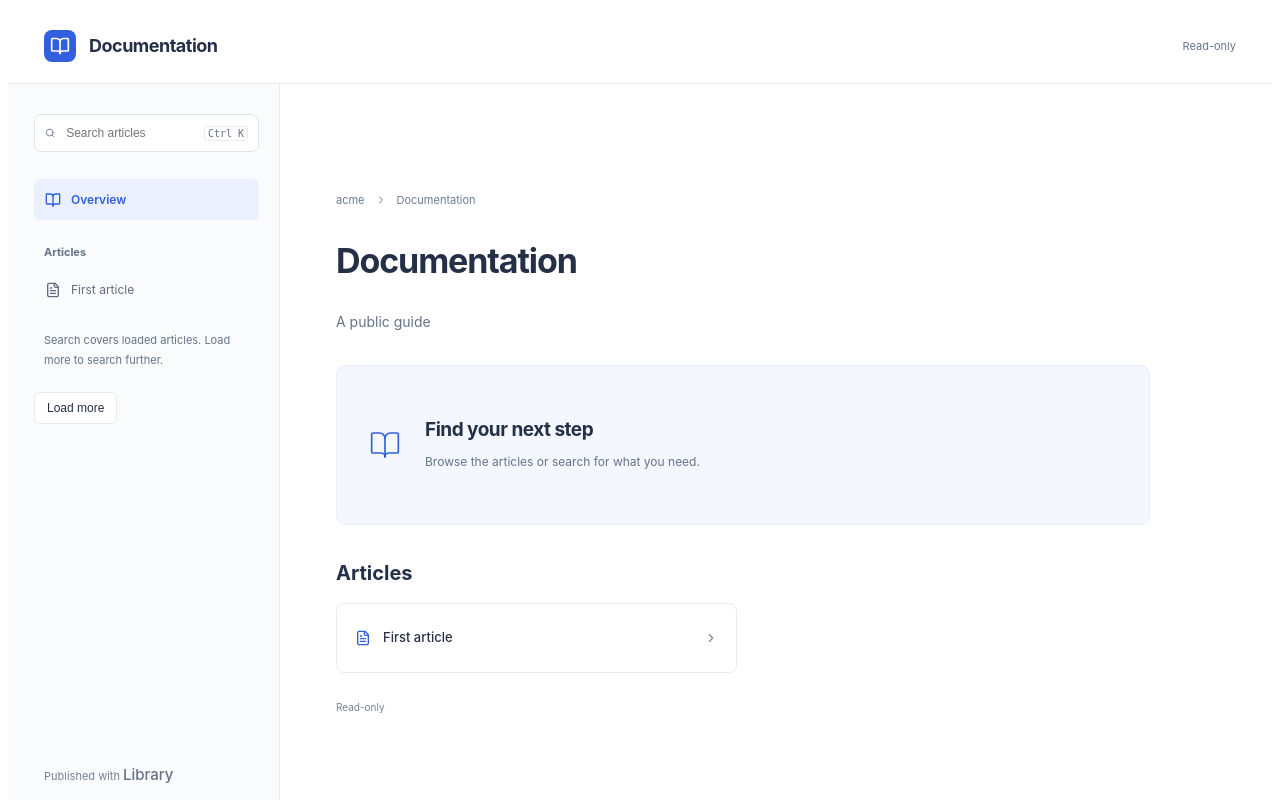
Scenario: public docs reader › reads the index anonymously, filters articles and preserves paging
Step 1. Click the button "Load more" → (76, 408), box [34,392,117,424]
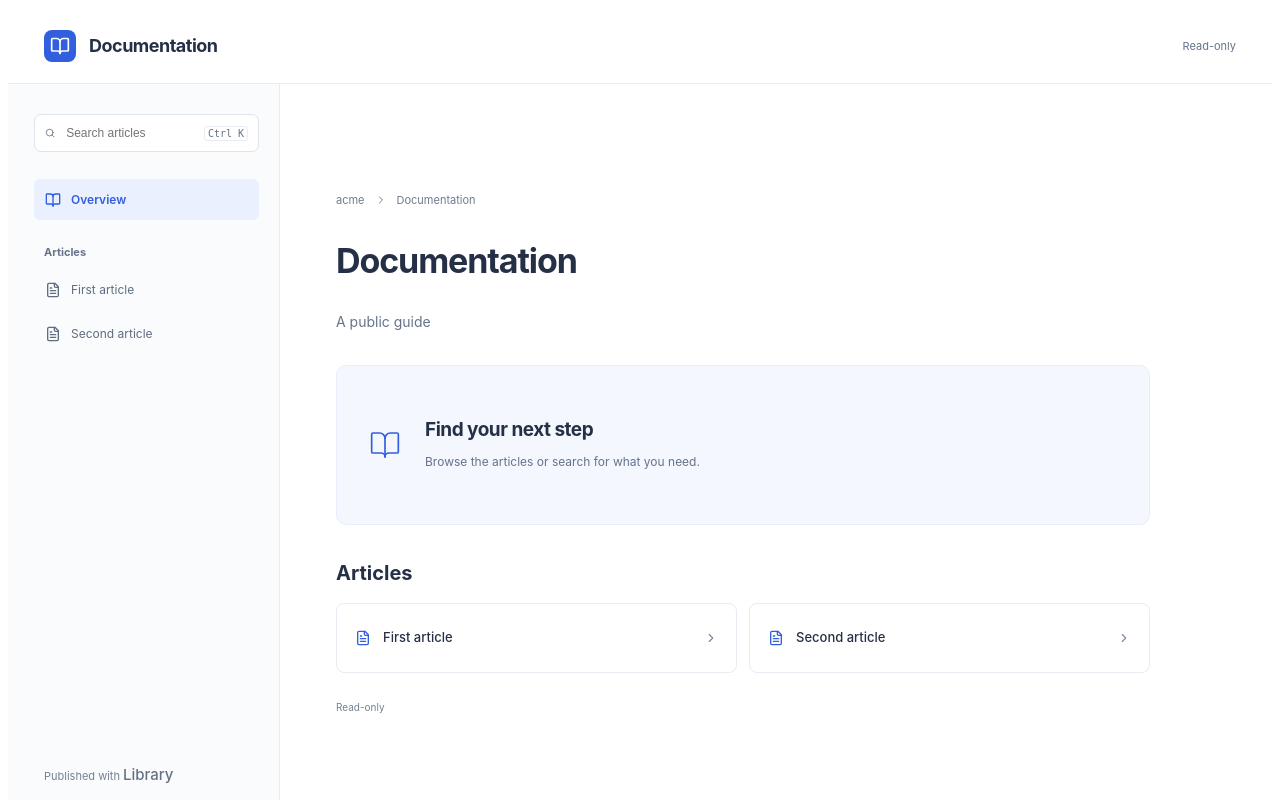
Check: the text "Second article" is shown 2 times, box [71,324,153,344]; [796,626,886,650]
Step 2. Type "Second" into the field → (130, 133), box [64,125,195,141]
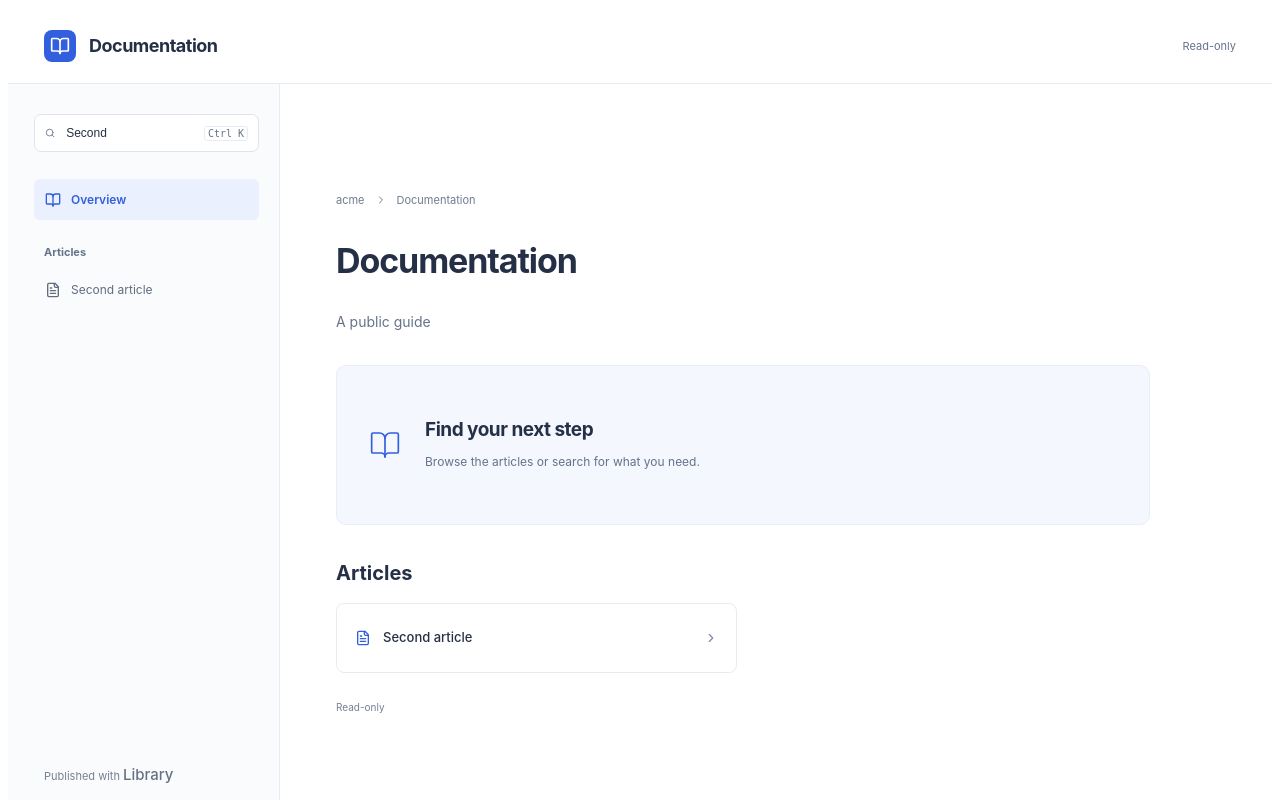
Check: the link "First article" is gone
